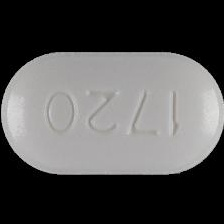58118-0064: (0, 0, 224, 224)
